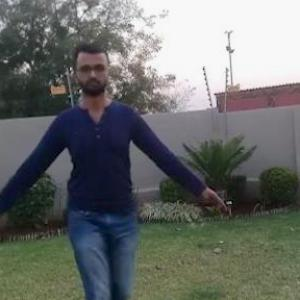land: (1, 66, 211, 299)
